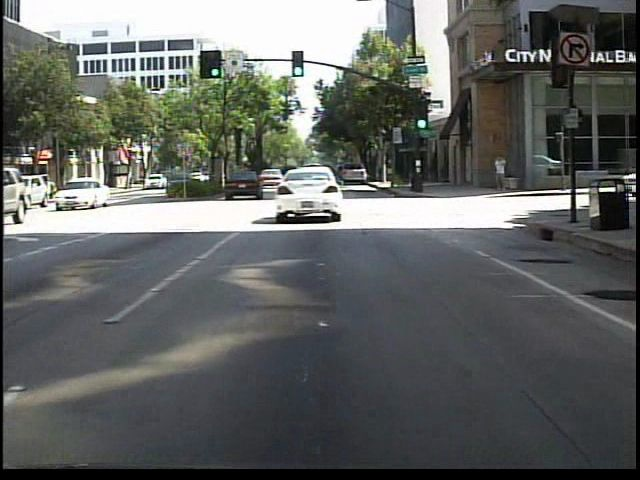person: (490, 153, 509, 195)
